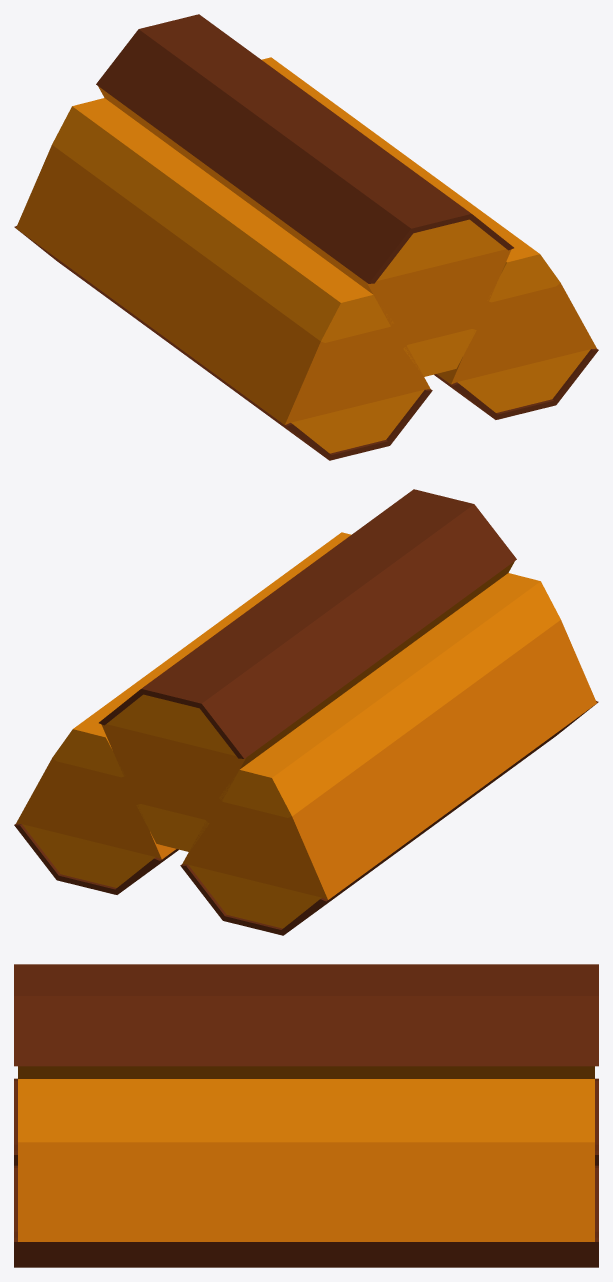
Rendered from Small Log_30.fbx.
3 views of the same model, one above another, from view 1: azimuth 30°, elevation 25°; view 2: azimuth 150°, elevation 25°; view 3: azimuth 270°, elevation 25° (orthographic). The views are drawn at different scales.
Visible parts, largest first — view 1: Circle.489; view 2: Circle.489; view 3: Circle.489.
Boxes of the visible parts, x1,y1,x2,y2 form: Circle.489: (14,14,598,460); Circle.489: (14,489,598,935); Circle.489: (14,964,598,1267).
Bounding box in the file's own units: 15.71 × 10.21 × 23.76.
